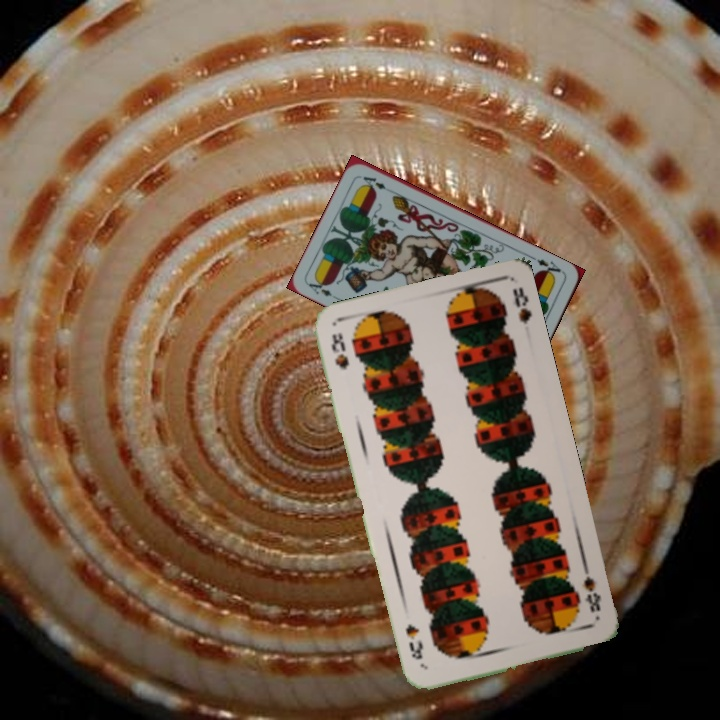EA: (528, 253, 566, 280), (304, 275, 334, 299)
S8: (579, 564, 604, 615), (327, 328, 352, 373)
